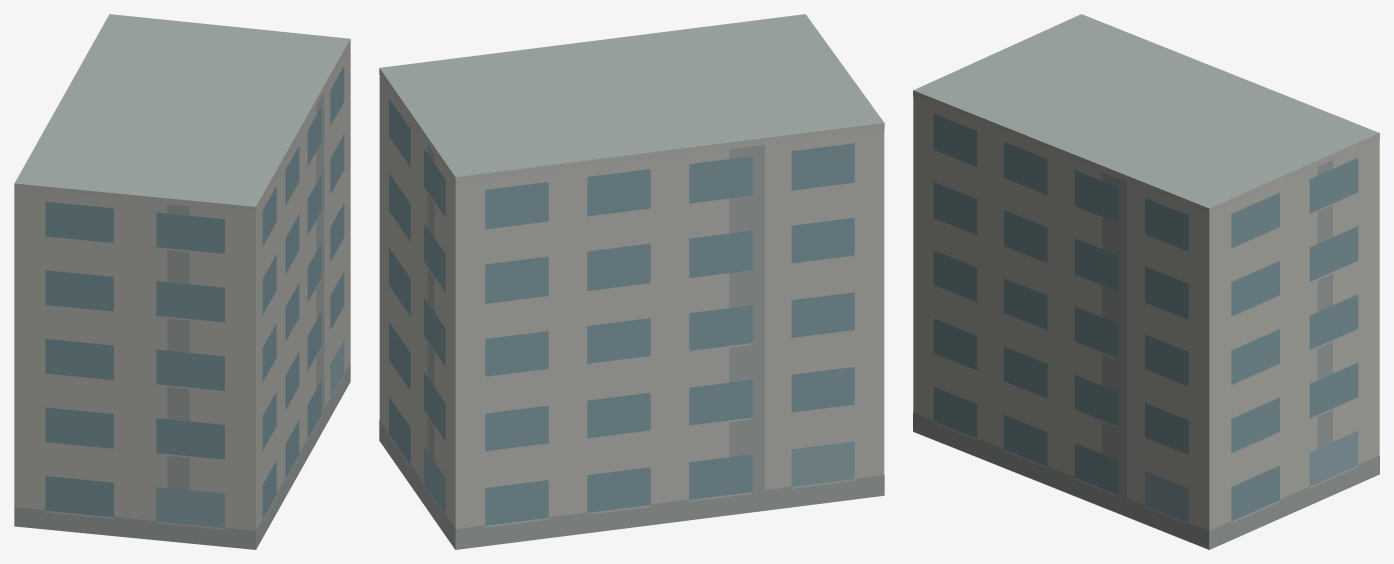
File: survey-upis-32881488.glb
3 renders of one model, left to right at view 1: azimuth 30°, elevation 25°; view 2: azimuth 150°, elevation 25°; view 3: azimuth 270°, elevation 25°, orthographic. The views are drawn at different scales.
Parts seen in each view (by area): view 1: survey-upis-32881488.tmp; view 2: survey-upis-32881488.tmp; view 3: survey-upis-32881488.tmp.
Part boxes in pixels (box(x1,y1,x2,y2)): survey-upis-32881488.tmp: box(14, 14, 350, 549); survey-upis-32881488.tmp: box(379, 14, 884, 549); survey-upis-32881488.tmp: box(913, 14, 1379, 549).
Bounding box in the file's own units: 16.26 × 13.3 × 16.48.
